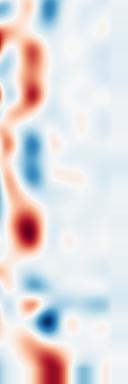filament: (14, 37, 54, 117), (7, 196, 53, 260)
